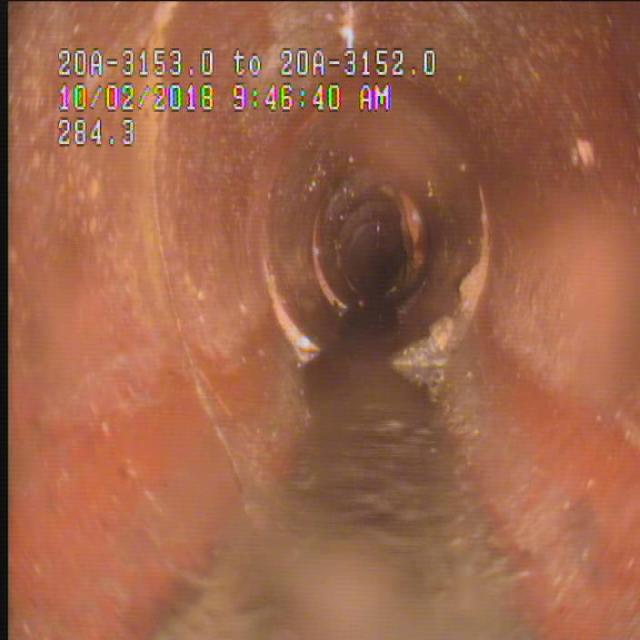Crack: (138, 145, 246, 476)
